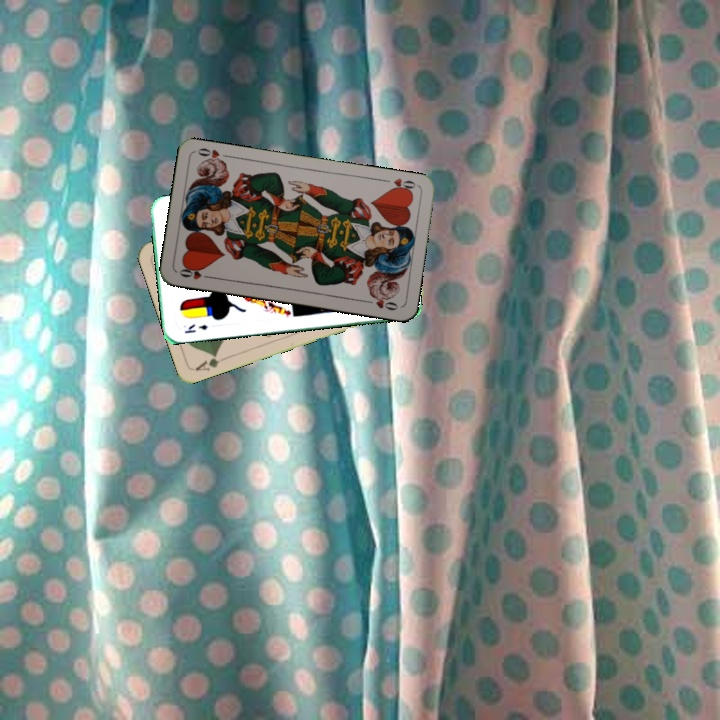EK: (180, 320, 210, 336)
GA: (191, 349, 222, 374)
HO: (379, 174, 420, 196), (175, 263, 215, 282)
